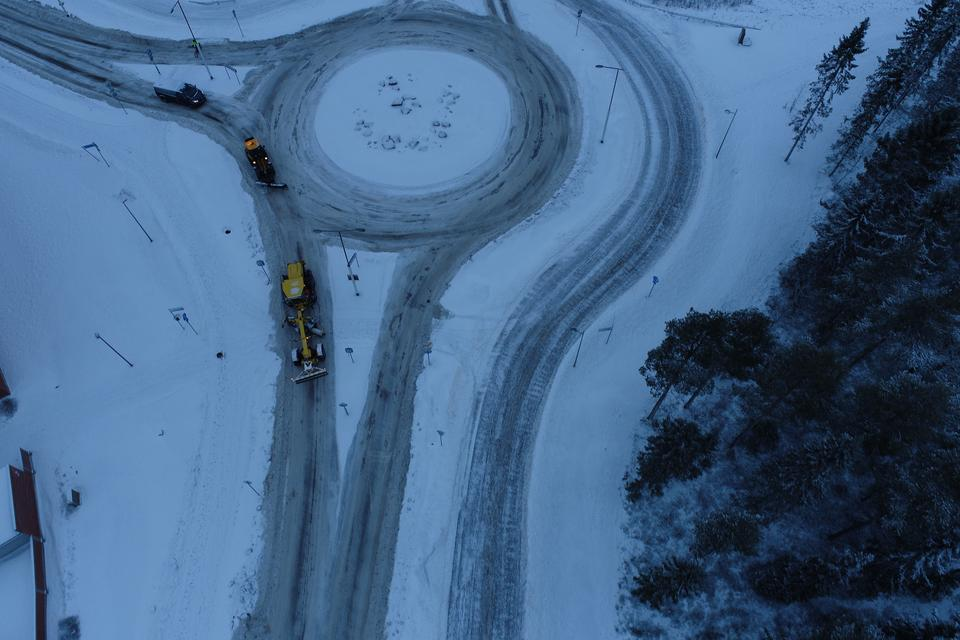roundabout: (200, 0, 712, 349)
